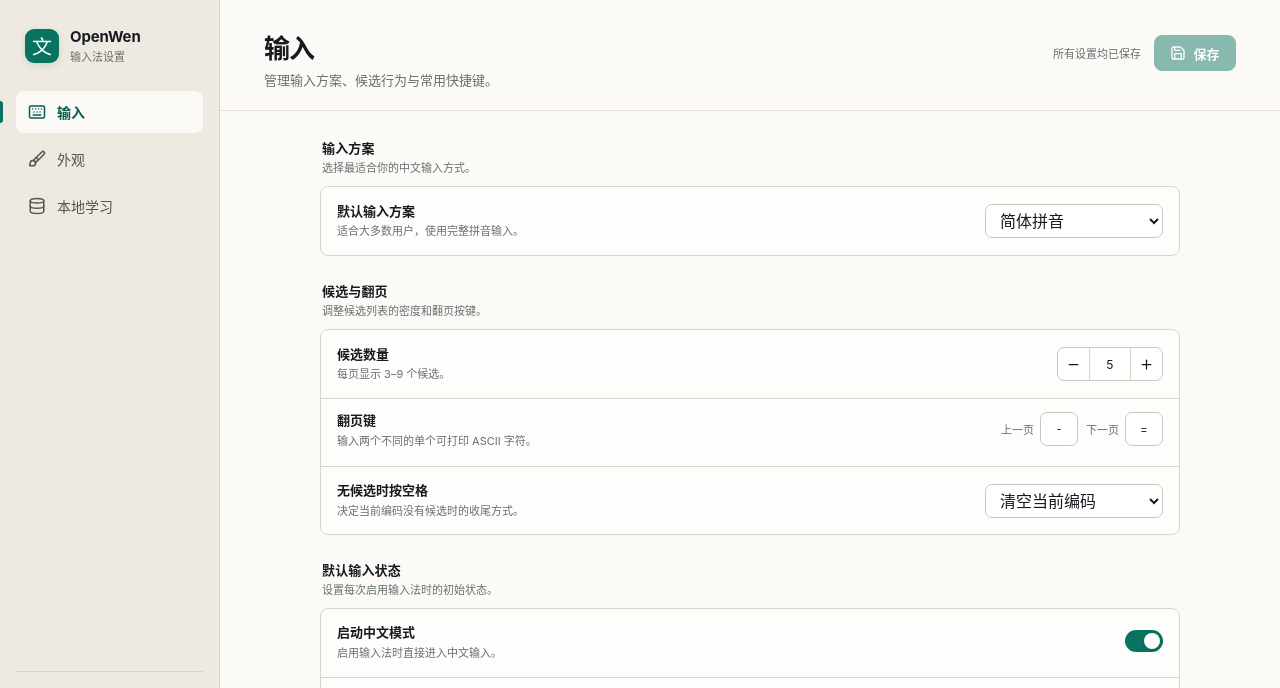
OpenWen 三页设置中心 › 侧栏只展示输入、外观、本地学习三页并标记当前页
What coordinates should you click on to do the following:
click the button "外观"
I would click on:
 (110, 159)
Its box is [16,138,203,180].
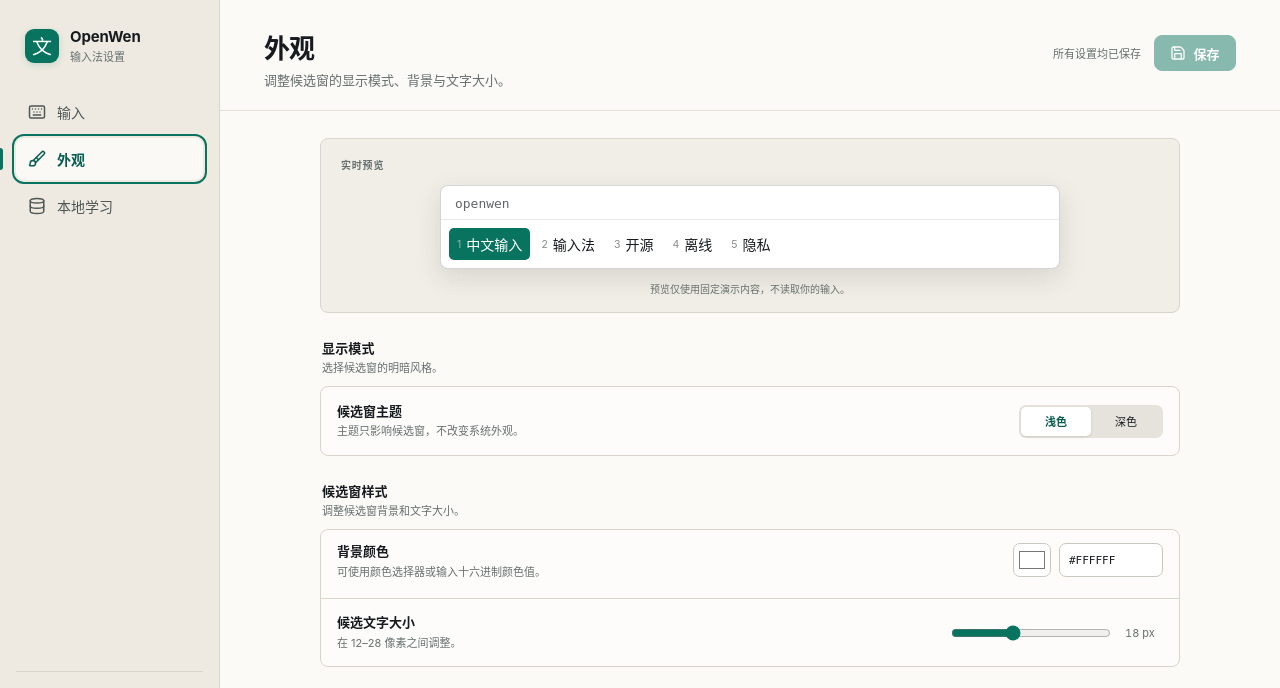
Now the heading "外观" is shown, box [264,33,314,64]
